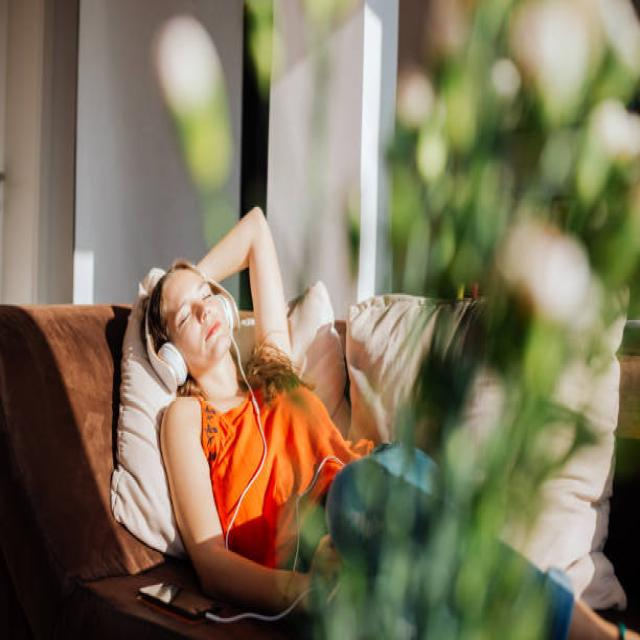Headphone: (147, 276, 241, 392)
